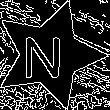N_N: (28, 29, 71, 80)
